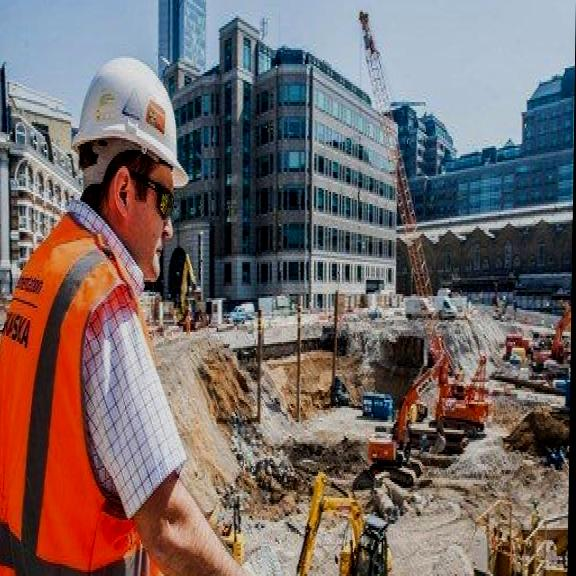safety_vest: (0, 220, 177, 576)
